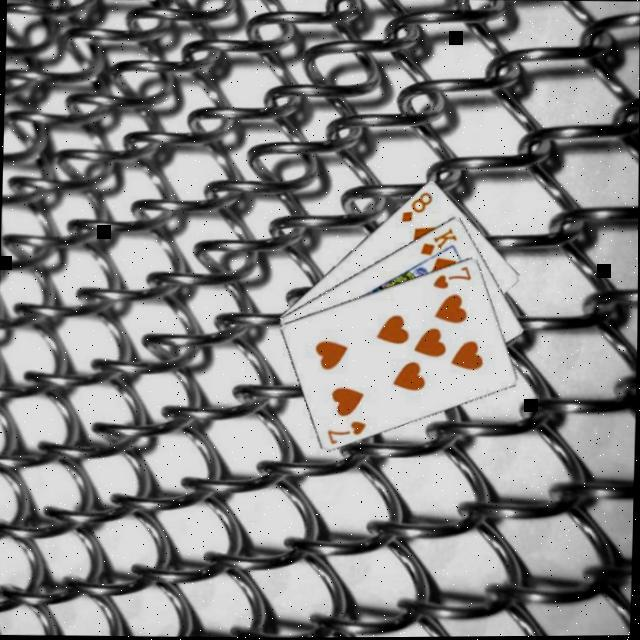7H: (322, 418, 368, 449), (428, 265, 472, 294)
8D: (396, 190, 433, 227)
KD: (414, 226, 458, 260)
